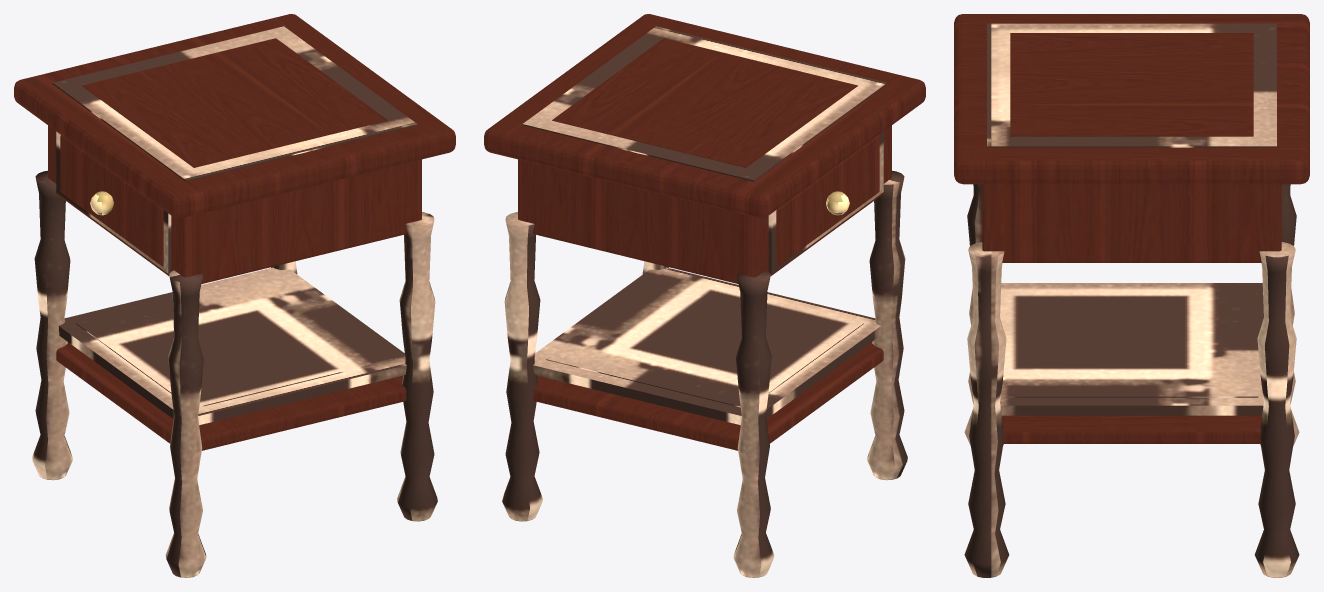
The model's file is liv-side-table-b.glb.
3 renders of one model, left to right at view 1: azimuth 30°, elevation 25°; view 2: azimuth 150°, elevation 25°; view 3: azimuth 270°, elevation 25°, orthographic. The views are drawn at different scales.
Parts seen in each view (by area): view 1: LM_SideTableB; view 2: LM_SideTableB; view 3: LM_SideTableB.
Boxes of the visible parts, <box> form: LM_SideTableB: <box>14,14,455,577</box>; LM_SideTableB: <box>484,14,925,577</box>; LM_SideTableB: <box>954,14,1309,577</box>.
Bounding box in the file's own units: 0.382 × 0.5022 × 0.38.
3 materials, 1 textured.
